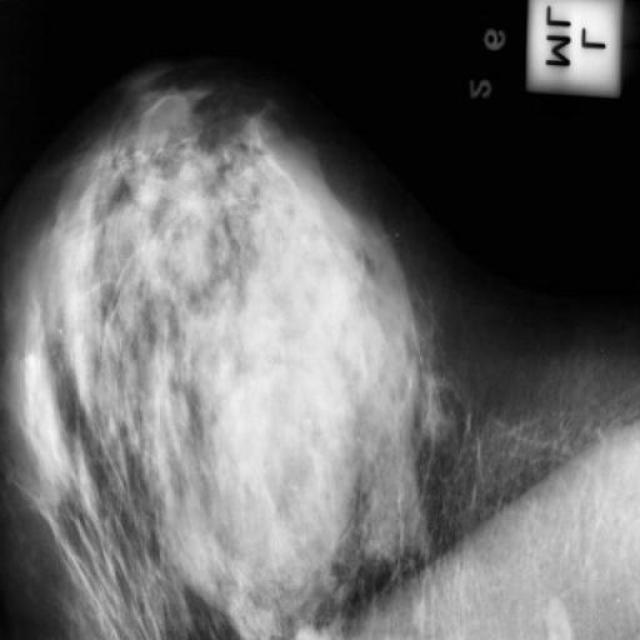cancer: (220, 376, 279, 459)
